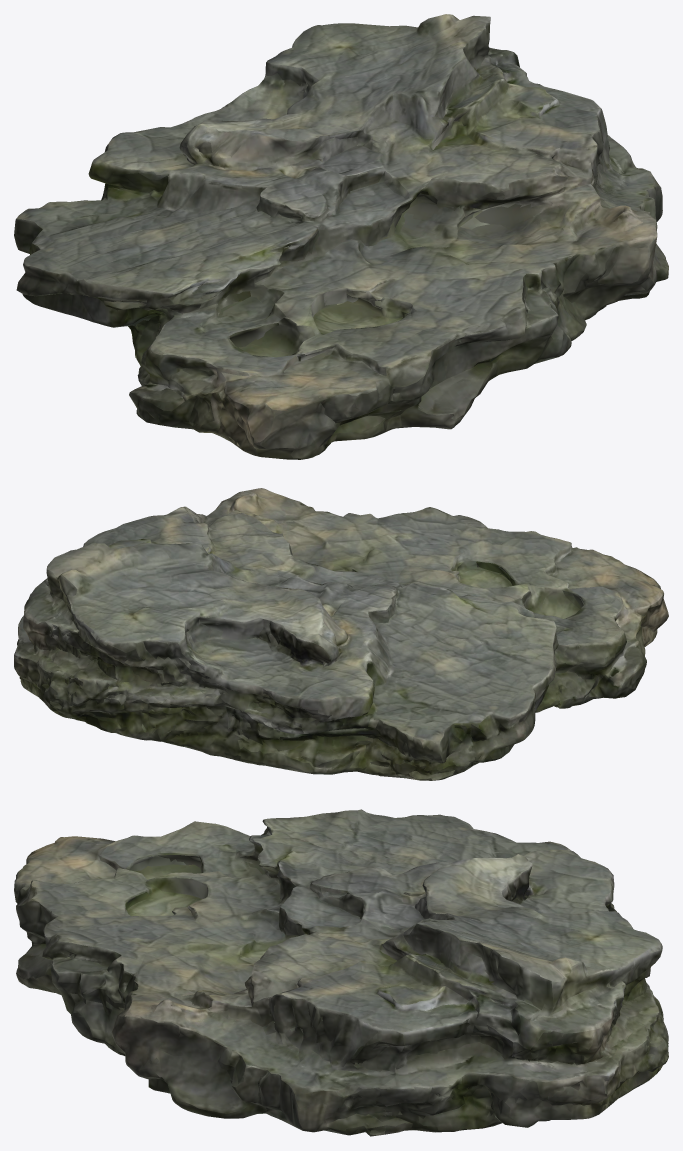
Rendered from tidal-reef-v001.glb.
3 views of the same model, one above another, from view 1: azimuth 30°, elevation 25°; view 2: azimuth 150°, elevation 25°; view 3: azimuth 270°, elevation 25° (orthographic). The views are drawn at different scales.
Visible parts, largest first — view 1: geometry_0; view 2: geometry_0; view 3: geometry_0.
Part boxes in pixels (x1,y1,x2,y2): geometry_0: [14, 14, 668, 459]; geometry_0: [14, 488, 668, 780]; geometry_0: [14, 809, 668, 1136].
Size of the model in its own units: 1.2 by 0.3345 by 1.18.
Materials: 1 (1 with a texture image).
